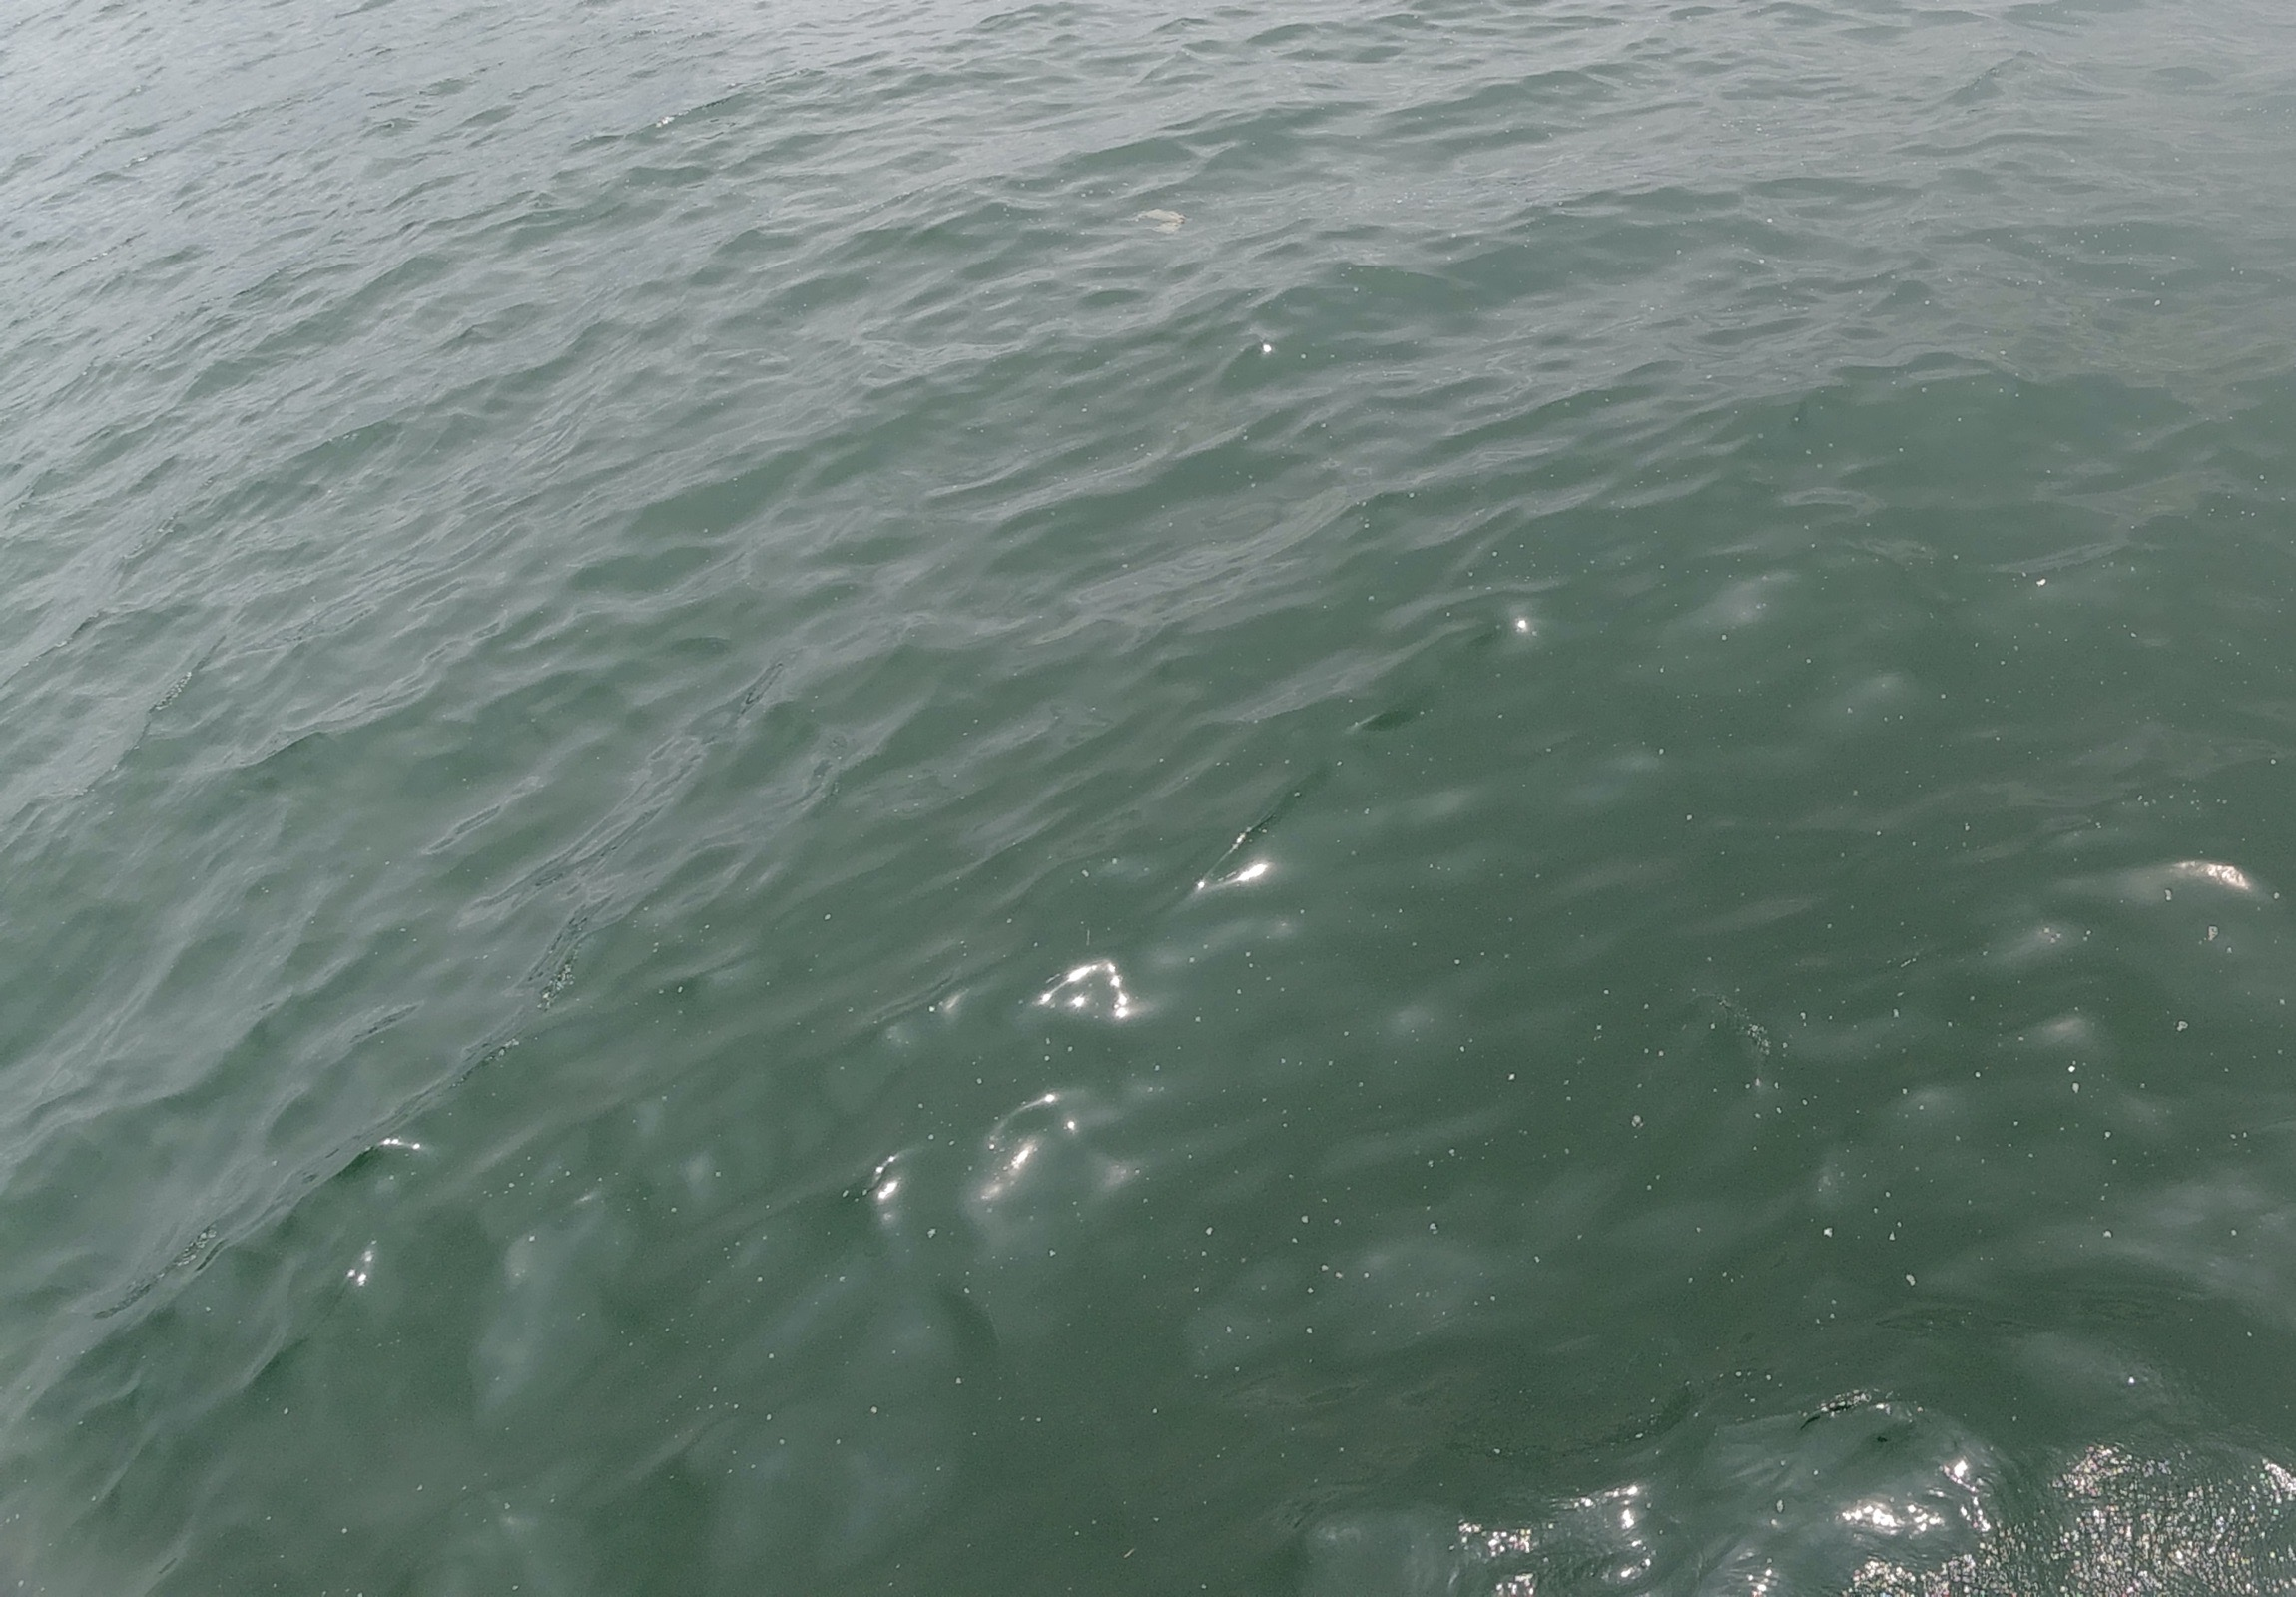plastic: (1111, 201, 1199, 246)
